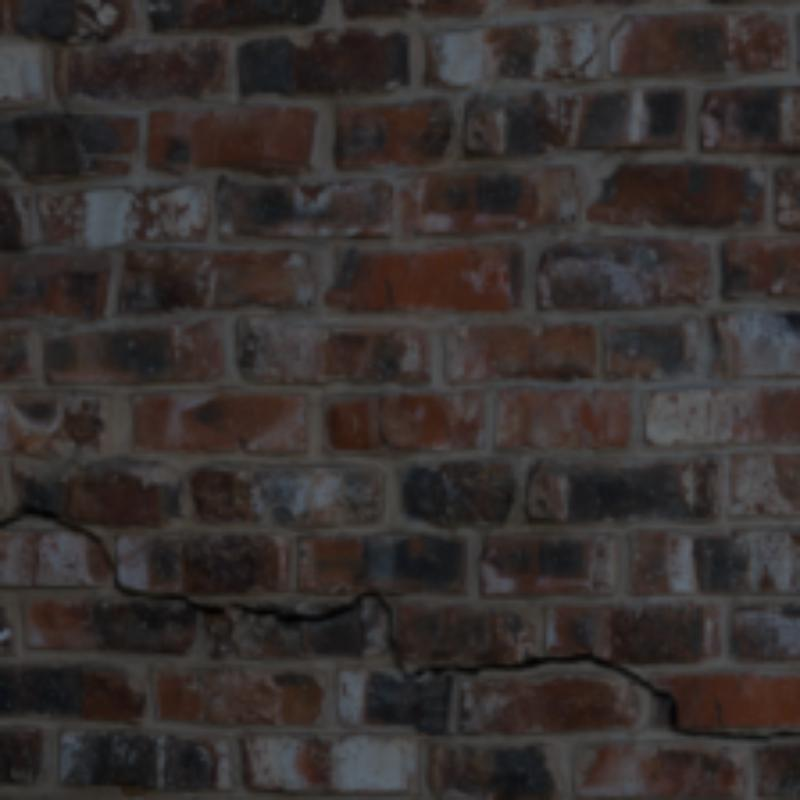crack: (70, 525, 393, 651), (494, 654, 651, 688), (661, 693, 734, 736), (397, 660, 482, 675), (0, 507, 66, 524)
